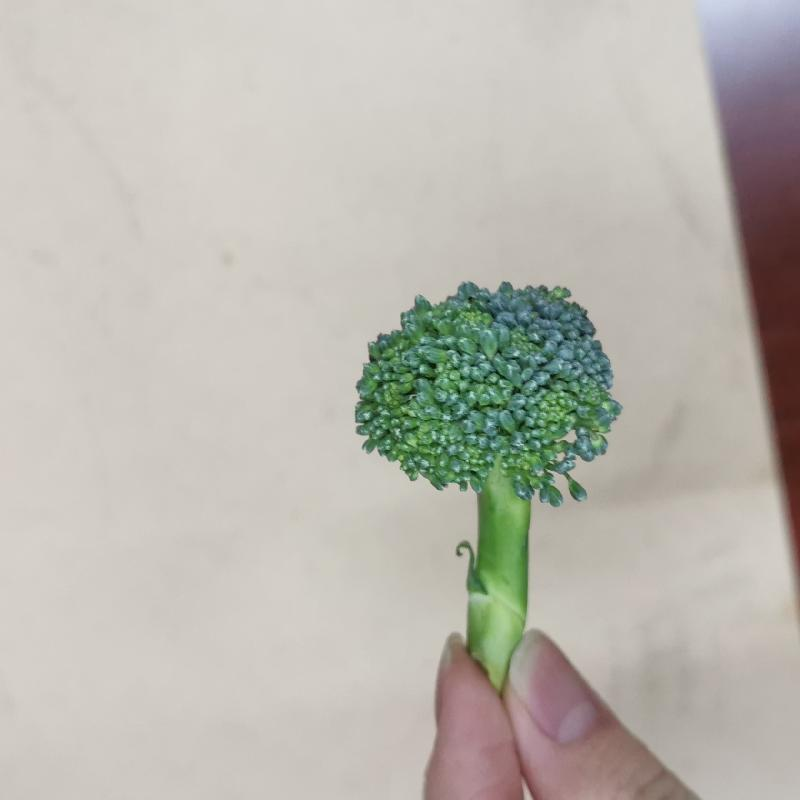broccoli: (353, 275, 626, 695)
